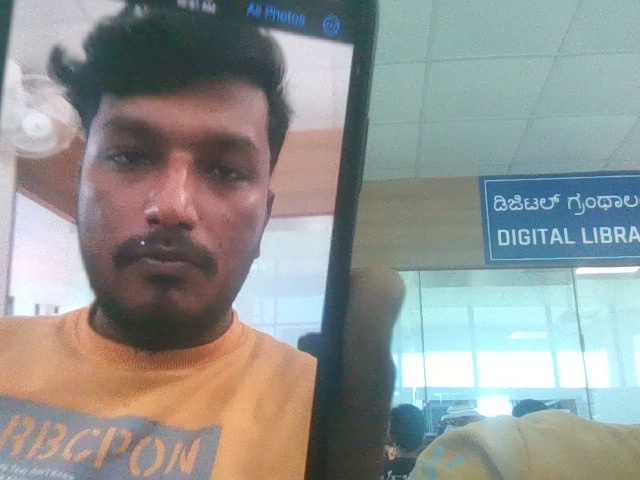fake: (44, 0, 304, 368)
